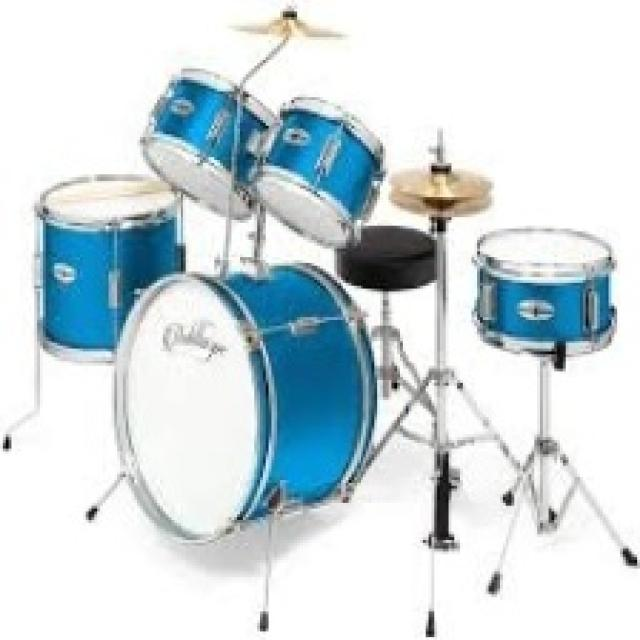drums: (28, 6, 616, 544)
